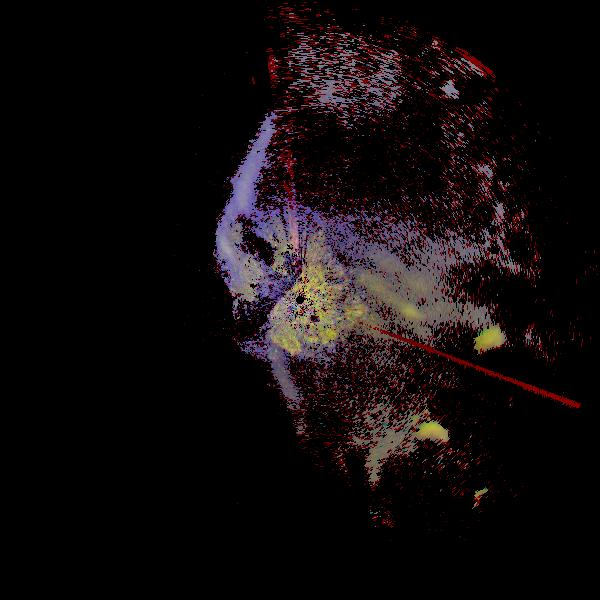roost: (455, 466, 560, 571), (449, 311, 554, 416), (396, 407, 498, 509)
